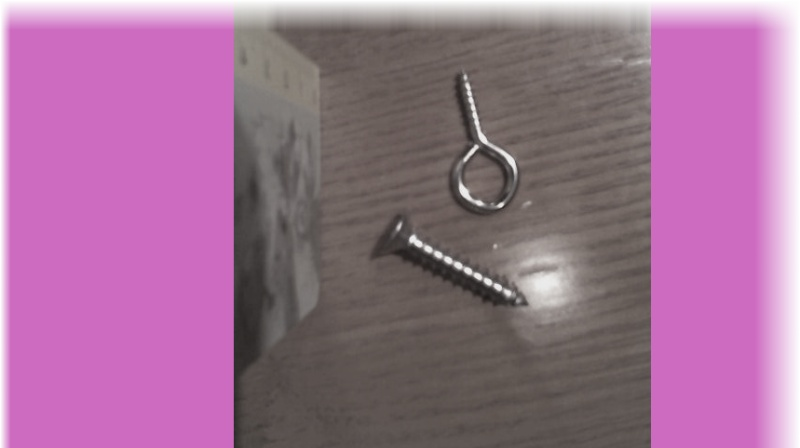O001: (448, 65, 522, 218)
S001: (371, 206, 530, 312)
